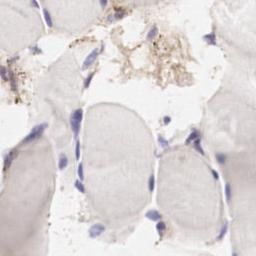nucleus: (70, 108, 82, 137), (83, 49, 101, 68), (88, 223, 107, 239), (8, 66, 17, 93), (217, 221, 227, 241), (42, 8, 53, 26), (145, 209, 162, 220), (184, 132, 199, 144), (58, 154, 69, 170), (146, 27, 159, 40), (158, 134, 170, 148), (204, 33, 216, 47), (22, 134, 44, 141), (224, 181, 231, 202), (147, 173, 155, 191), (194, 142, 205, 155), (33, 122, 47, 132), (78, 163, 84, 182), (216, 154, 227, 164), (75, 181, 84, 192), (85, 74, 92, 87), (76, 139, 80, 159), (164, 115, 172, 125), (1, 65, 6, 81), (107, 12, 114, 23), (32, 46, 43, 53), (3, 156, 12, 164), (155, 222, 165, 229), (212, 170, 219, 178), (8, 55, 18, 60), (31, 1, 39, 7), (101, 1, 107, 6), (232, 253, 236, 256)
positive_cell: (103, 5, 133, 24), (81, 67, 96, 93), (155, 222, 170, 243)
